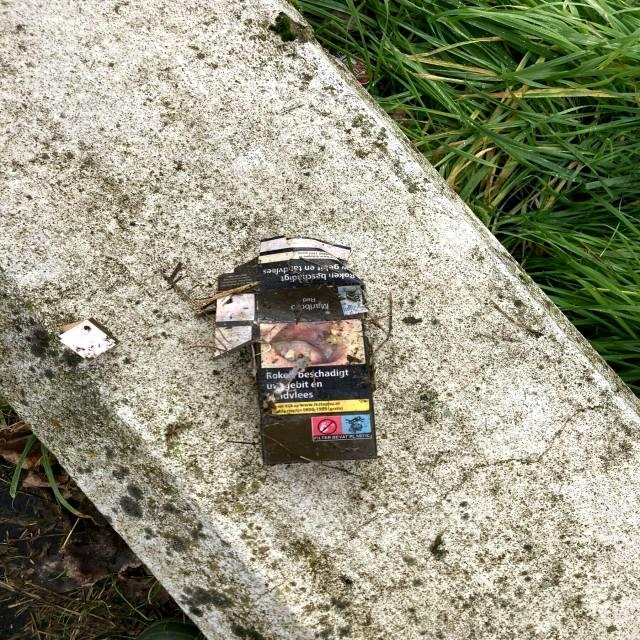Paper: (205, 229, 381, 469)
